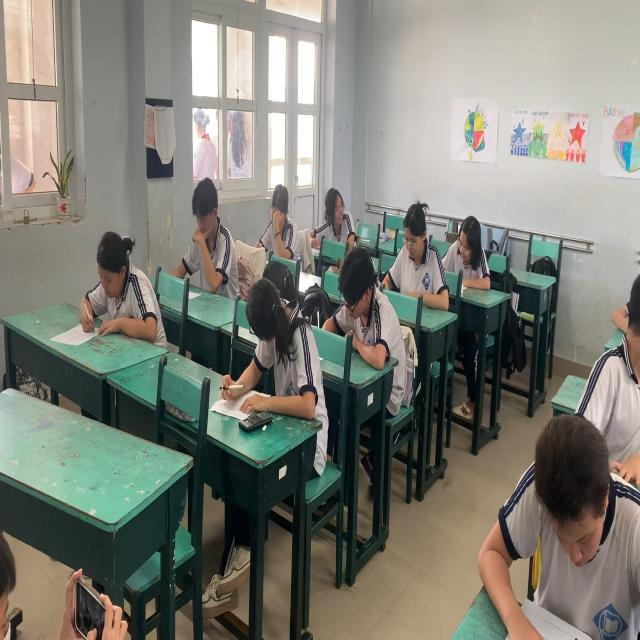cheating: (231, 257, 305, 442), (316, 171, 354, 253)
not_cheating: (520, 397, 636, 640), (84, 217, 173, 356), (587, 257, 640, 458), (174, 148, 238, 296), (330, 242, 389, 362), (391, 188, 442, 317), (445, 187, 498, 290), (255, 167, 296, 275)
